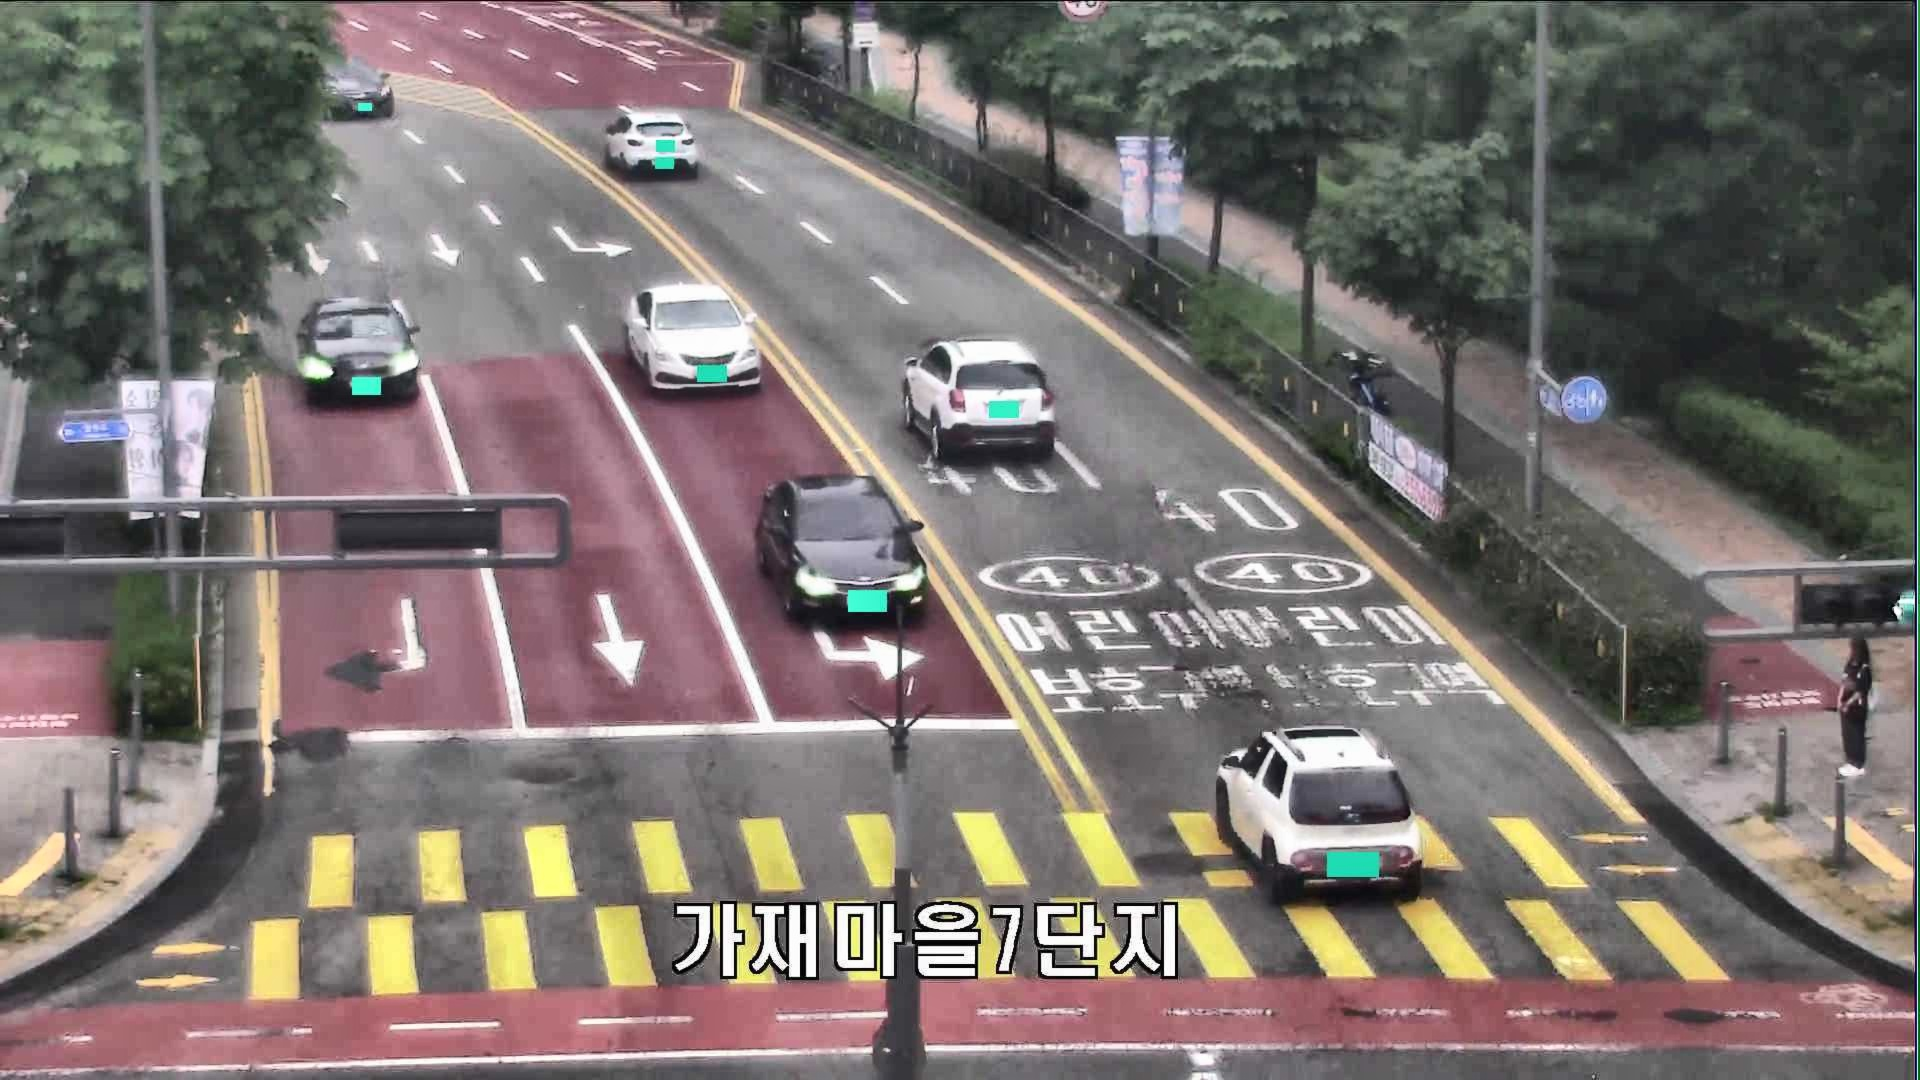sidewalk: (1840, 634, 1874, 777)
